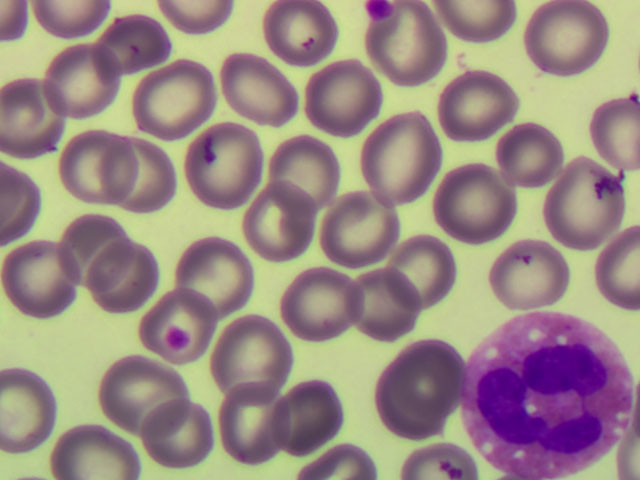Platelets: (365, 1, 389, 20)
RBC: (43, 40, 123, 116), (133, 62, 213, 138), (49, 135, 129, 211), (114, 134, 194, 210), (180, 130, 260, 206), (221, 55, 301, 131), (304, 59, 384, 135), (355, 119, 435, 195), (264, 130, 344, 206), (237, 187, 317, 263), (179, 233, 259, 309), (143, 287, 223, 363), (86, 252, 166, 328), (60, 214, 140, 290), (10, 241, 90, 317), (56, 403, 136, 479), (98, 358, 178, 434), (144, 396, 224, 472), (212, 317, 292, 393), (207, 389, 287, 465), (263, 383, 343, 459), (284, 271, 364, 347), (344, 272, 424, 348), (385, 234, 465, 310), (330, 192, 410, 268), (437, 164, 517, 240), (486, 118, 566, 194), (444, 72, 524, 148), (366, 12, 446, 88), (485, 239, 565, 315), (553, 160, 633, 236), (379, 347, 459, 423), (1, 377, 80, 453), (96, 1, 176, 76), (259, 1, 339, 76), (526, 1, 606, 76)
WBC: (466, 312, 626, 469)
